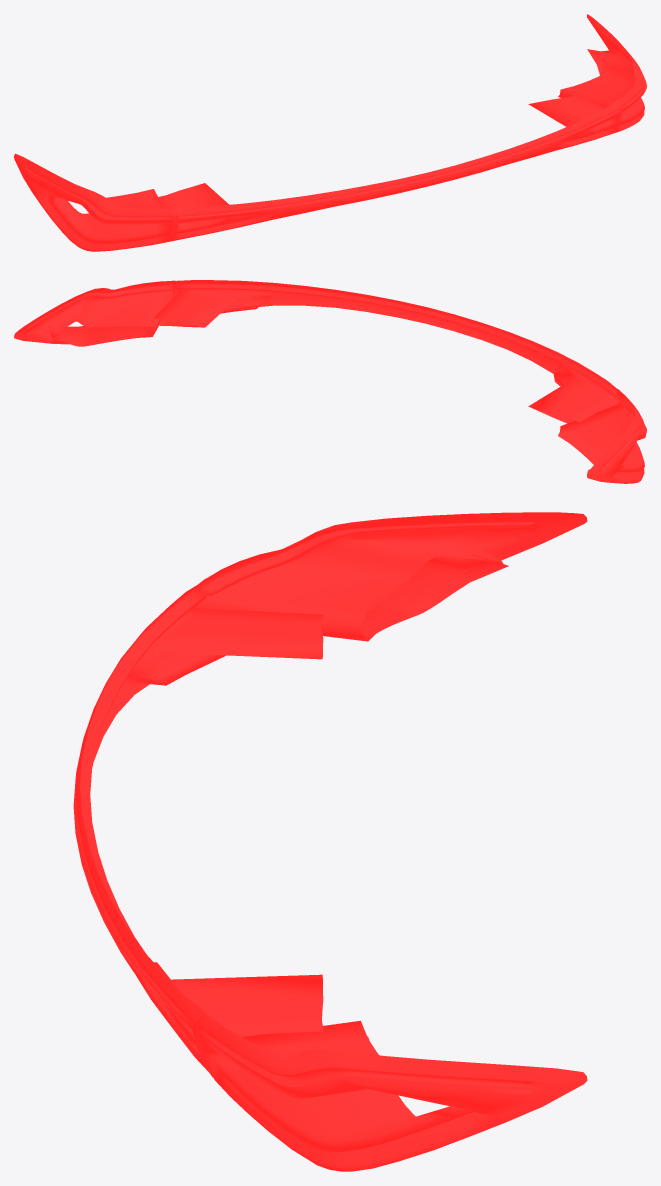
Rendered from TL_red_part.glb.
3 renders of one model, top to bottom at view 1: azimuth 30°, elevation 25°; view 2: azimuth 150°, elevation 25°; view 3: azimuth 270°, elevation 25°, orthographic. The views are drawn at different scales.
Parts seen in each view (by area): view 1: TL_red_part; view 2: TL_red_part; view 3: TL_red_part.
Boxes of the visible parts, bbox=[...] form: TL_red_part: bbox=[14, 14, 646, 251]; TL_red_part: bbox=[14, 280, 646, 483]; TL_red_part: bbox=[73, 512, 587, 1171].
Bounding box in the file's own units: 1.51 × 0.1404 × 0.5804.
